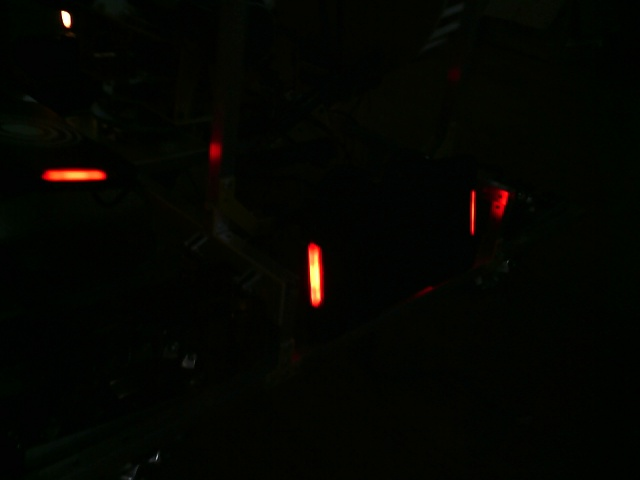lamp: (305, 238, 329, 310), (467, 185, 478, 241)
